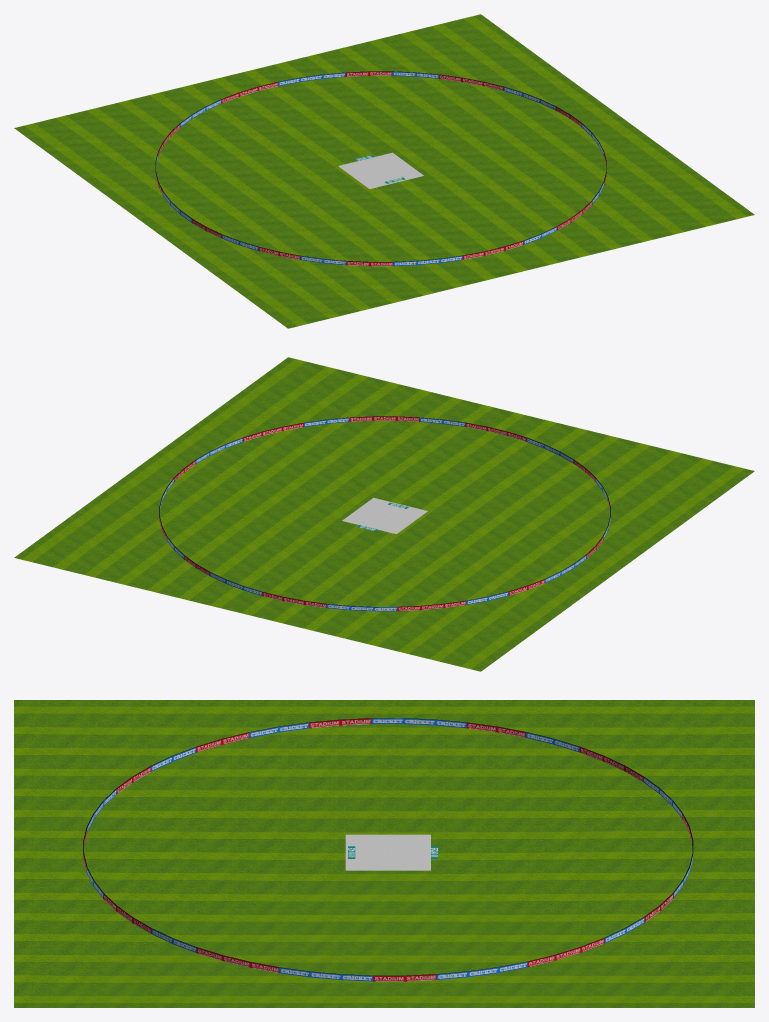
Rendered from cricket_ground.fbx.
3 renders of one model, top to bottom at view 1: azimuth 30°, elevation 25°; view 2: azimuth 150°, elevation 25°; view 3: azimuth 270°, elevation 25°, orthographic. The views are drawn at different scales.
Visible parts, largest first — view 1: Ground, Ads; view 2: Ground, Ads; view 3: Ground, Ads.
Boxes of the visible parts, bbox=[...] form: Ground: bbox=[14, 14, 754, 328]; Ads: bbox=[155, 71, 606, 266]; Ground: bbox=[14, 357, 754, 671]; Ads: bbox=[159, 416, 610, 611]; Ground: bbox=[14, 700, 754, 1007]; Ads: bbox=[83, 718, 693, 981].
Bounding box in the file's own units: 384 × 3.74 × 391.
